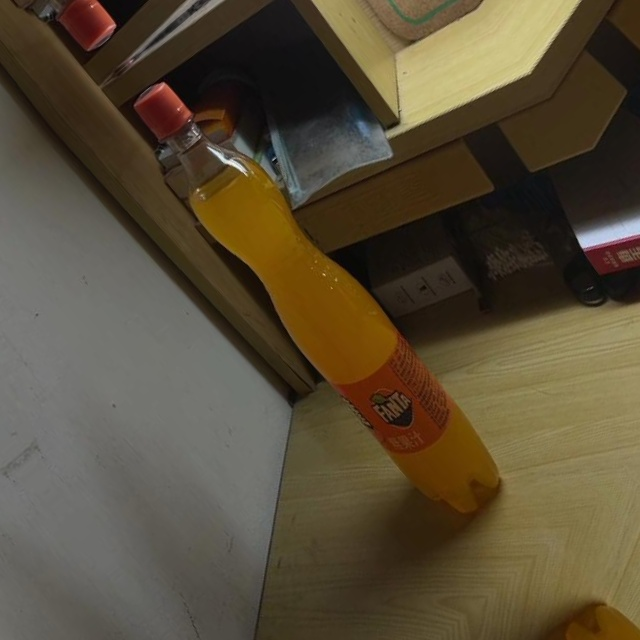Fanta: (107, 62, 524, 535)
